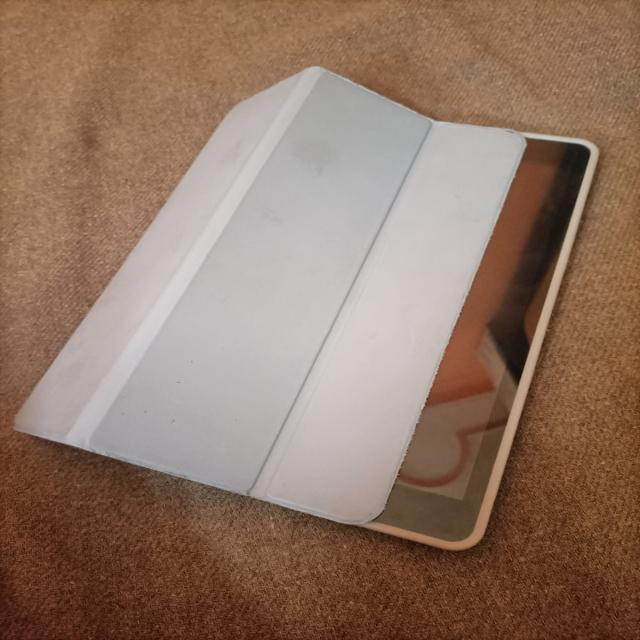tablet: (11, 8, 625, 572)
